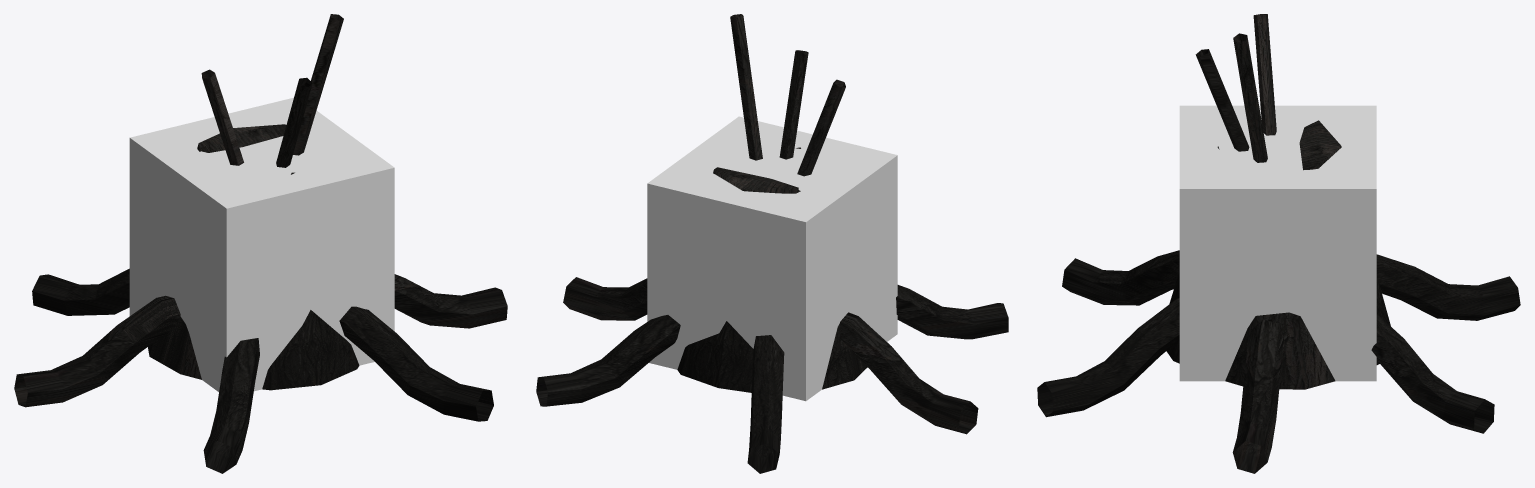
The model's file is dead_stump_blighted_dead.glb.
The picture shows the model from 3 angles, left to right: view 1: azimuth 30°, elevation 25°; view 2: azimuth 150°, elevation 25°; view 3: azimuth 270°, elevation 25°; orthographic projection. The views are drawn at different scales.
Visible parts, largest first — view 1: col_block_stump, dead_stump_blighted; view 2: col_block_stump, dead_stump_blighted; view 3: col_block_stump, dead_stump_blighted.
Part boxes in pixels (x1,y1,x2,y2): col_block_stump: (129, 97, 394, 391); dead_stump_blighted: (14, 14, 507, 473); col_block_stump: (647, 116, 897, 401); dead_stump_blighted: (536, 14, 1008, 473); col_block_stump: (1179, 105, 1376, 381); dead_stump_blighted: (1037, 14, 1520, 473).
Size of the model in its own units: 3.5 by 2.59 by 3.19.
Materials: 1 (1 with a texture image).
